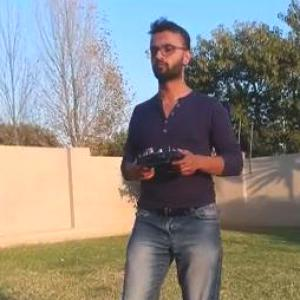follow: (106, 15, 244, 299)
